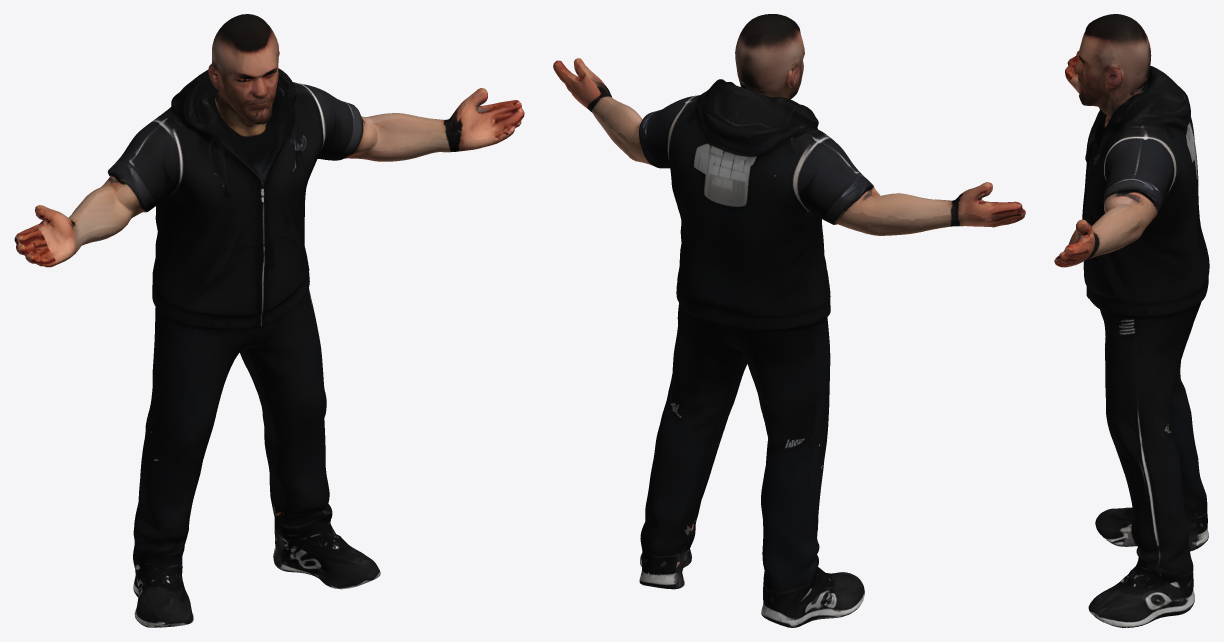
The model's file is official_coach.obj.
3 renders of one model, left to right at view 1: azimuth 30°, elevation 25°; view 2: azimuth 150°, elevation 25°; view 3: azimuth 270°, elevation 25°, orthographic. The views are drawn at different scales.
Visible parts, largest first — view 1: textured_mesh; view 2: textured_mesh; view 3: textured_mesh.
Part boxes in pixels (box(x1,y1,x2,y2)): textured_mesh: box(14, 14, 524, 627); textured_mesh: box(553, 14, 1025, 627); textured_mesh: box(1054, 14, 1209, 627).
Bounding box in the file's own units: 1.76 × 1.99 × 0.5045.
1 material, 1 textured.
